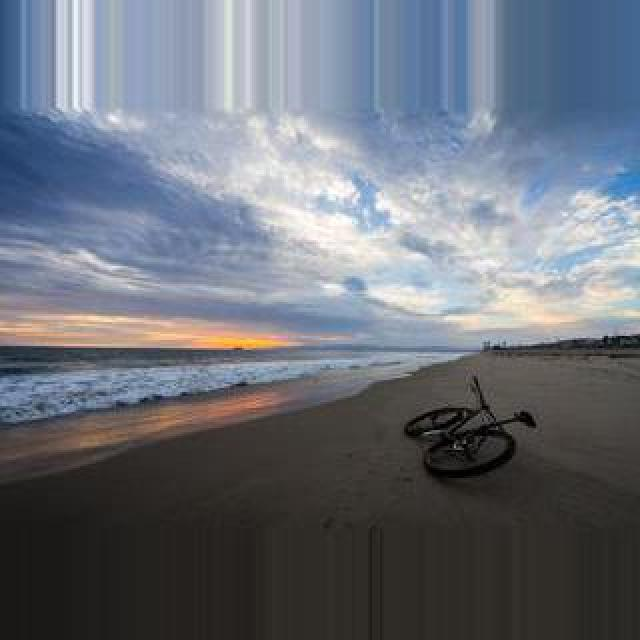Person: (408, 378, 536, 480)
